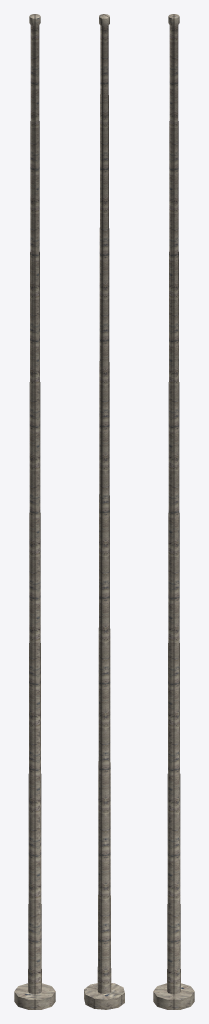
The model's file is SM_Morin_AstaBandiera.fbx.
3 renders of one model, left to right at view 1: azimuth 90°, elevation 25°; view 2: azimuth 150°, elevation 25°; view 3: azimuth 270°, elevation 25°, orthographic.
Parts seen in each view (by area): view 1: SM_Morin_AstaBandiera; view 2: SM_Morin_AstaBandiera; view 3: SM_Morin_AstaBandiera.
Boxes of the visible parts, x1=… form: SM_Morin_AstaBandiera: x1=14, y1=14, x2=55, y2=1009; SM_Morin_AstaBandiera: x1=84, y1=14, x2=124, y2=1009; SM_Morin_AstaBandiera: x1=153, y1=14, x2=194, y2=1009.
Size of what is drawn, in the model's own units: 41.85 by 44 by 1152.
1 material, 1 textured.
